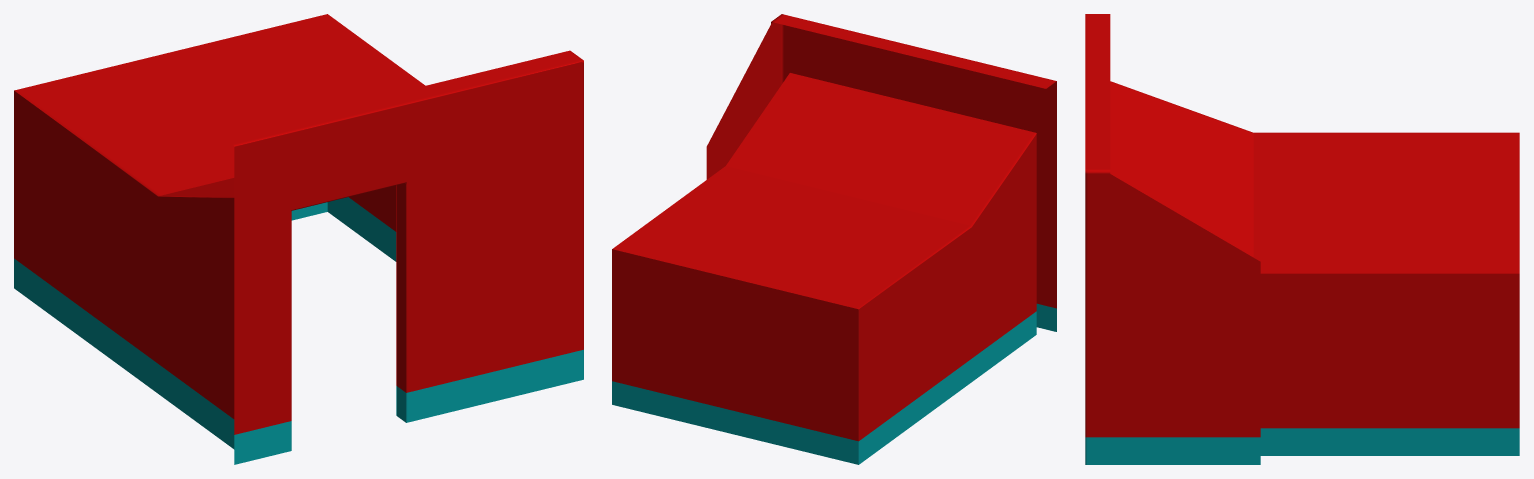
The model's file is Staircase_bottom_Snaps014.fbx.
3 views of the same model, side by side, from view 1: azimuth 30°, elevation 25°; view 2: azimuth 150°, elevation 25°; view 3: azimuth 270°, elevation 25° (orthographic). The views are drawn at different scales.
Parts seen in each view (by area): view 1: Staircase_bottom_LOD00; view 2: Staircase_bottom_LOD00; view 3: Staircase_bottom_LOD00.
Boxes of the visible parts, x1,y1,x2,y2 form: Staircase_bottom_LOD00: (14, 14, 583, 464); Staircase_bottom_LOD00: (612, 14, 1056, 464); Staircase_bottom_LOD00: (1085, 14, 1519, 464).
Size of what is drawn, in the model's own units: 305 by 266 by 356.
